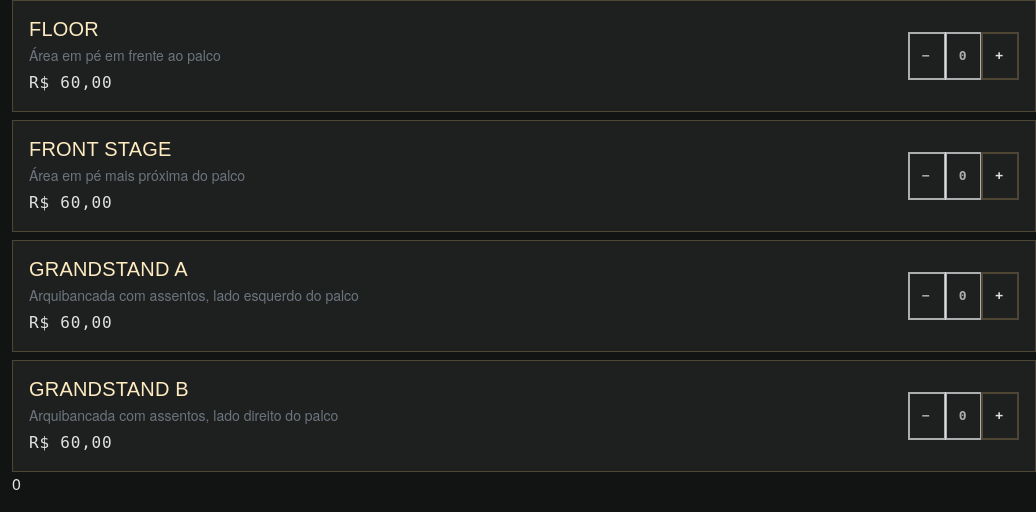
sector picker › adds tickets to a sector
This screenshot has width=1036, height=512.
Click the button named "Add one ticket to Floor": (1000, 56) x1=981 y1=32 x2=1019 y2=80
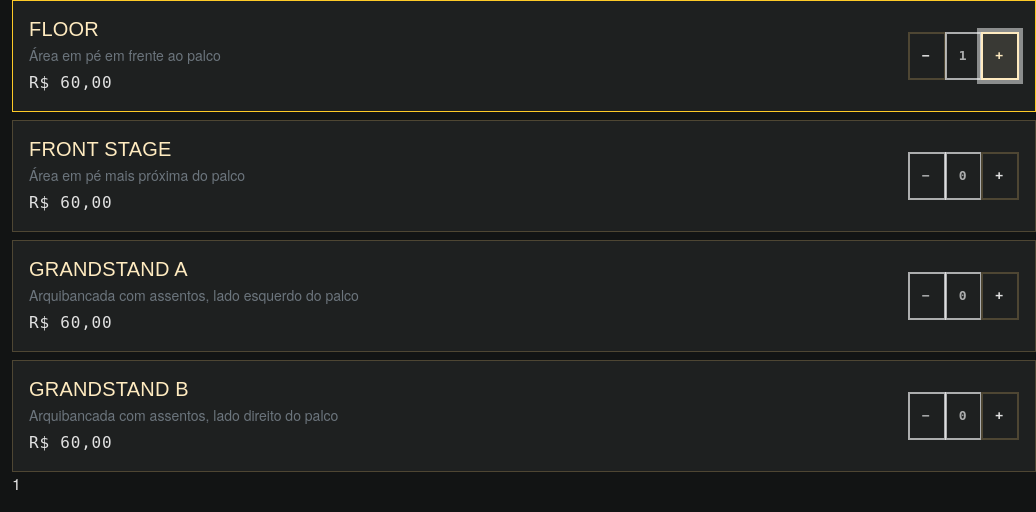
Click the button named "Add one ticket to Floor": (1000, 56) x1=981 y1=32 x2=1019 y2=80
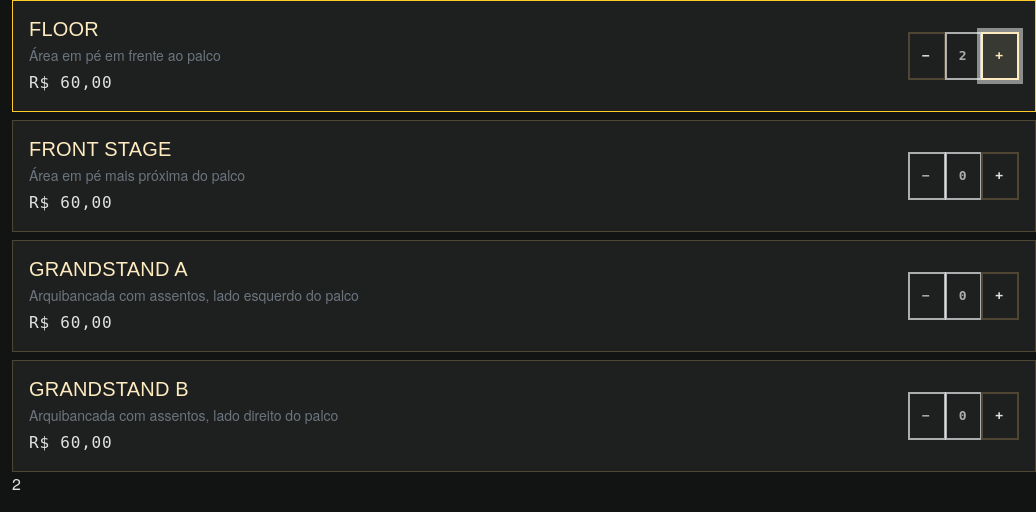
Expected: the text with test id "total" reads "2", x1=12 y1=472 x2=21 y2=495
